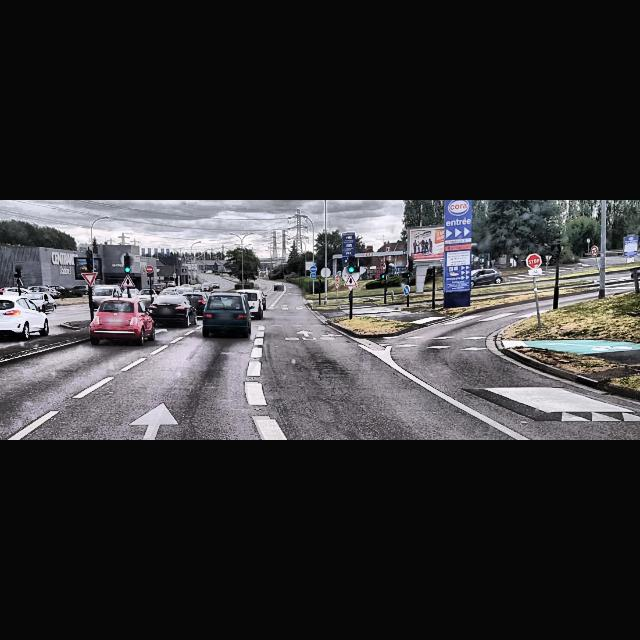speed_30: (591, 246, 599, 256)
